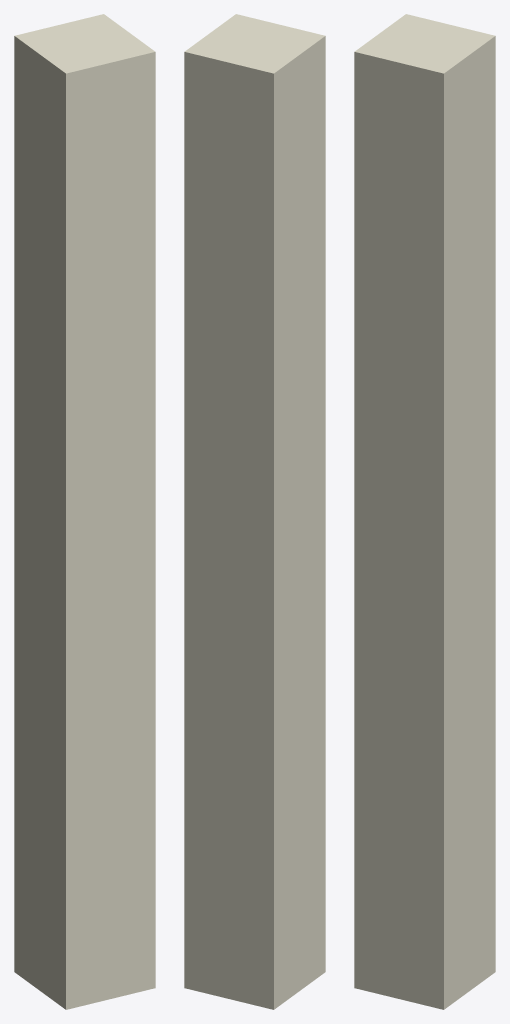
File: Pillar_50x500.glb
3 views of the same model, side by side, from view 1: azimuth 30°, elevation 25°; view 2: azimuth 150°, elevation 25°; view 3: azimuth 330°, elevation 25° (orthographic).
Parts seen in each view (by area): view 1: Pillar_50x500; view 2: Pillar_50x500; view 3: Pillar_50x500.
Part boxes in pixels (<box>): Pillar_50x500: <box>14,14,155,1009</box>; Pillar_50x500: <box>184,14,325,1009</box>; Pillar_50x500: <box>354,14,495,1009</box>.
Size of the model in its own units: 0.5 by 5 by 0.5.
